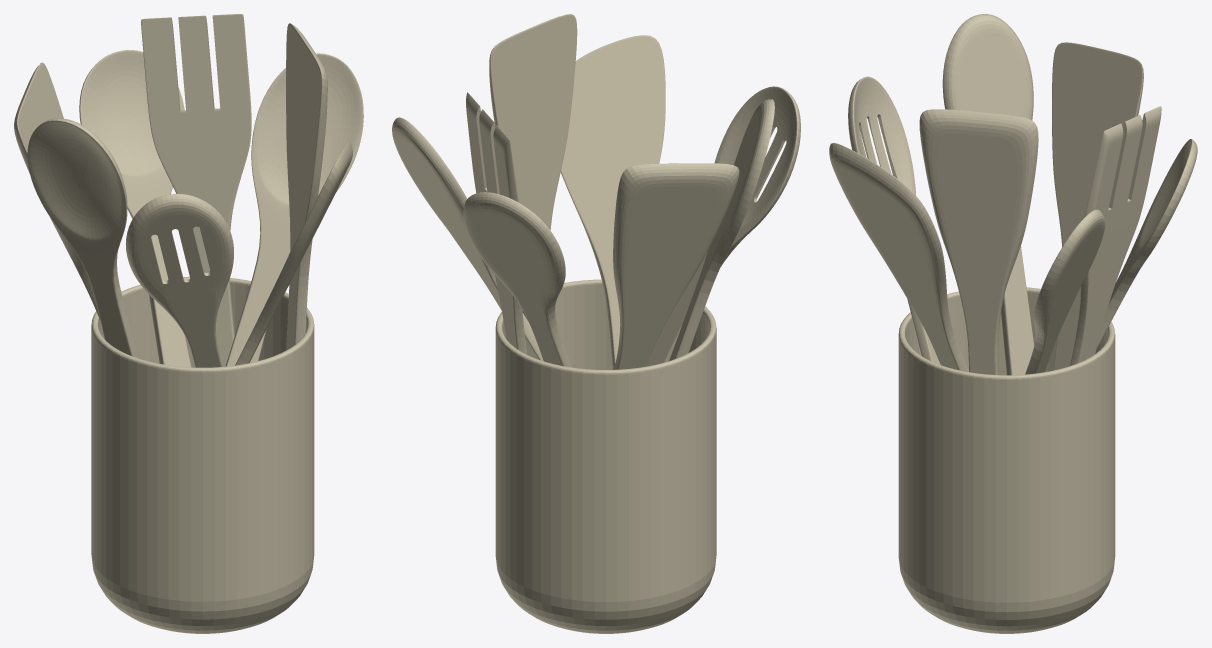
Rendered from łyżki na blat.fbx.
The picture shows the model from 3 angles, left to right: view 1: azimuth 30°, elevation 25°; view 2: azimuth 150°, elevation 25°; view 3: azimuth 270°, elevation 25°; orthographic projection. The views are drawn at different scales.
Visible parts, largest first — view 1: 19 Kitchen, łyżki na blat; view 2: 19 Kitchen, łyżki na blat; view 3: 19 Kitchen, łyżki na blat.
Part boxes in pixels (left/top/right/bottom): 19 Kitchen: left=14, top=14, right=363, bottom=367; łyżki na blat: left=91, top=276, right=314, bottom=633; 19 Kitchen: left=392, top=14, right=800, bottom=369; łyżki na blat: left=495, top=279, right=716, bottom=633; 19 Kitchen: left=829, top=14, right=1197, bottom=375; łyżki na blat: left=898, top=287, right=1115, bottom=633.
Size of the model in its own units: 28.29 by 42.34 by 26.38.
